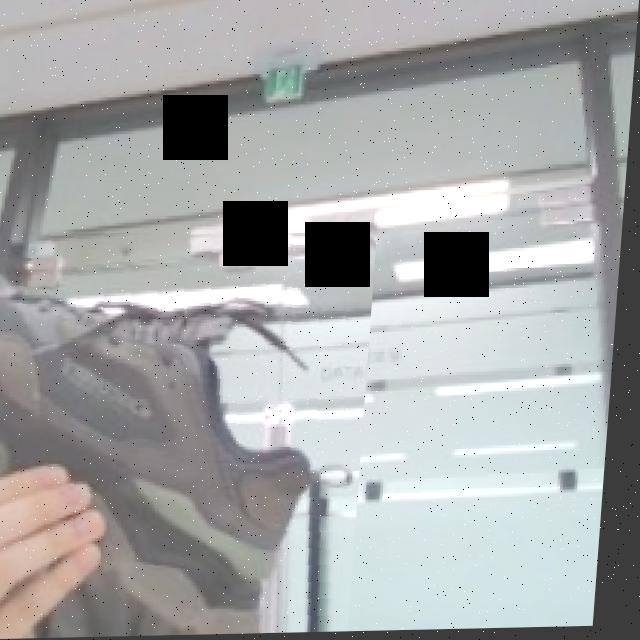shoe: (0, 224, 382, 640)
